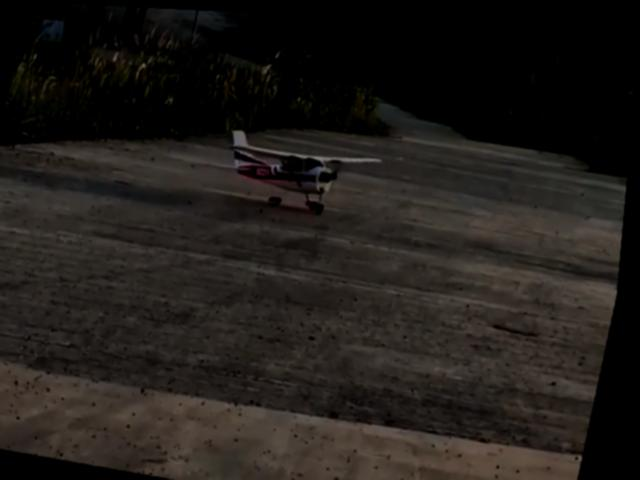plane: (216, 123, 387, 221)
